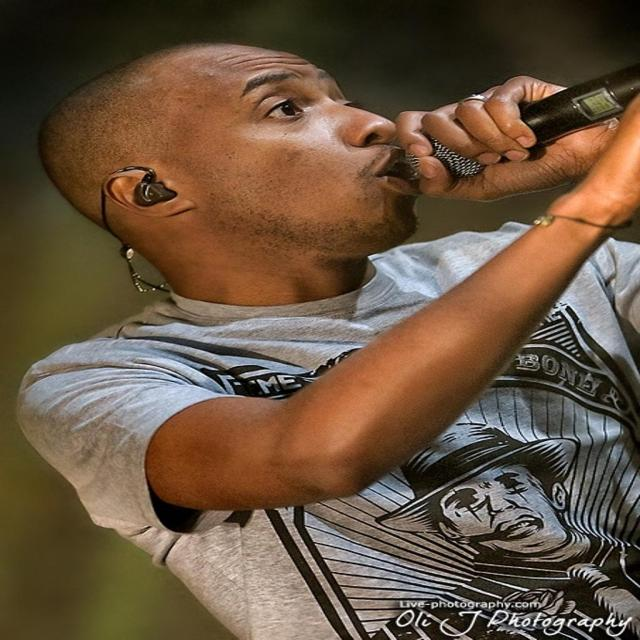Face: (164, 45, 424, 257)
